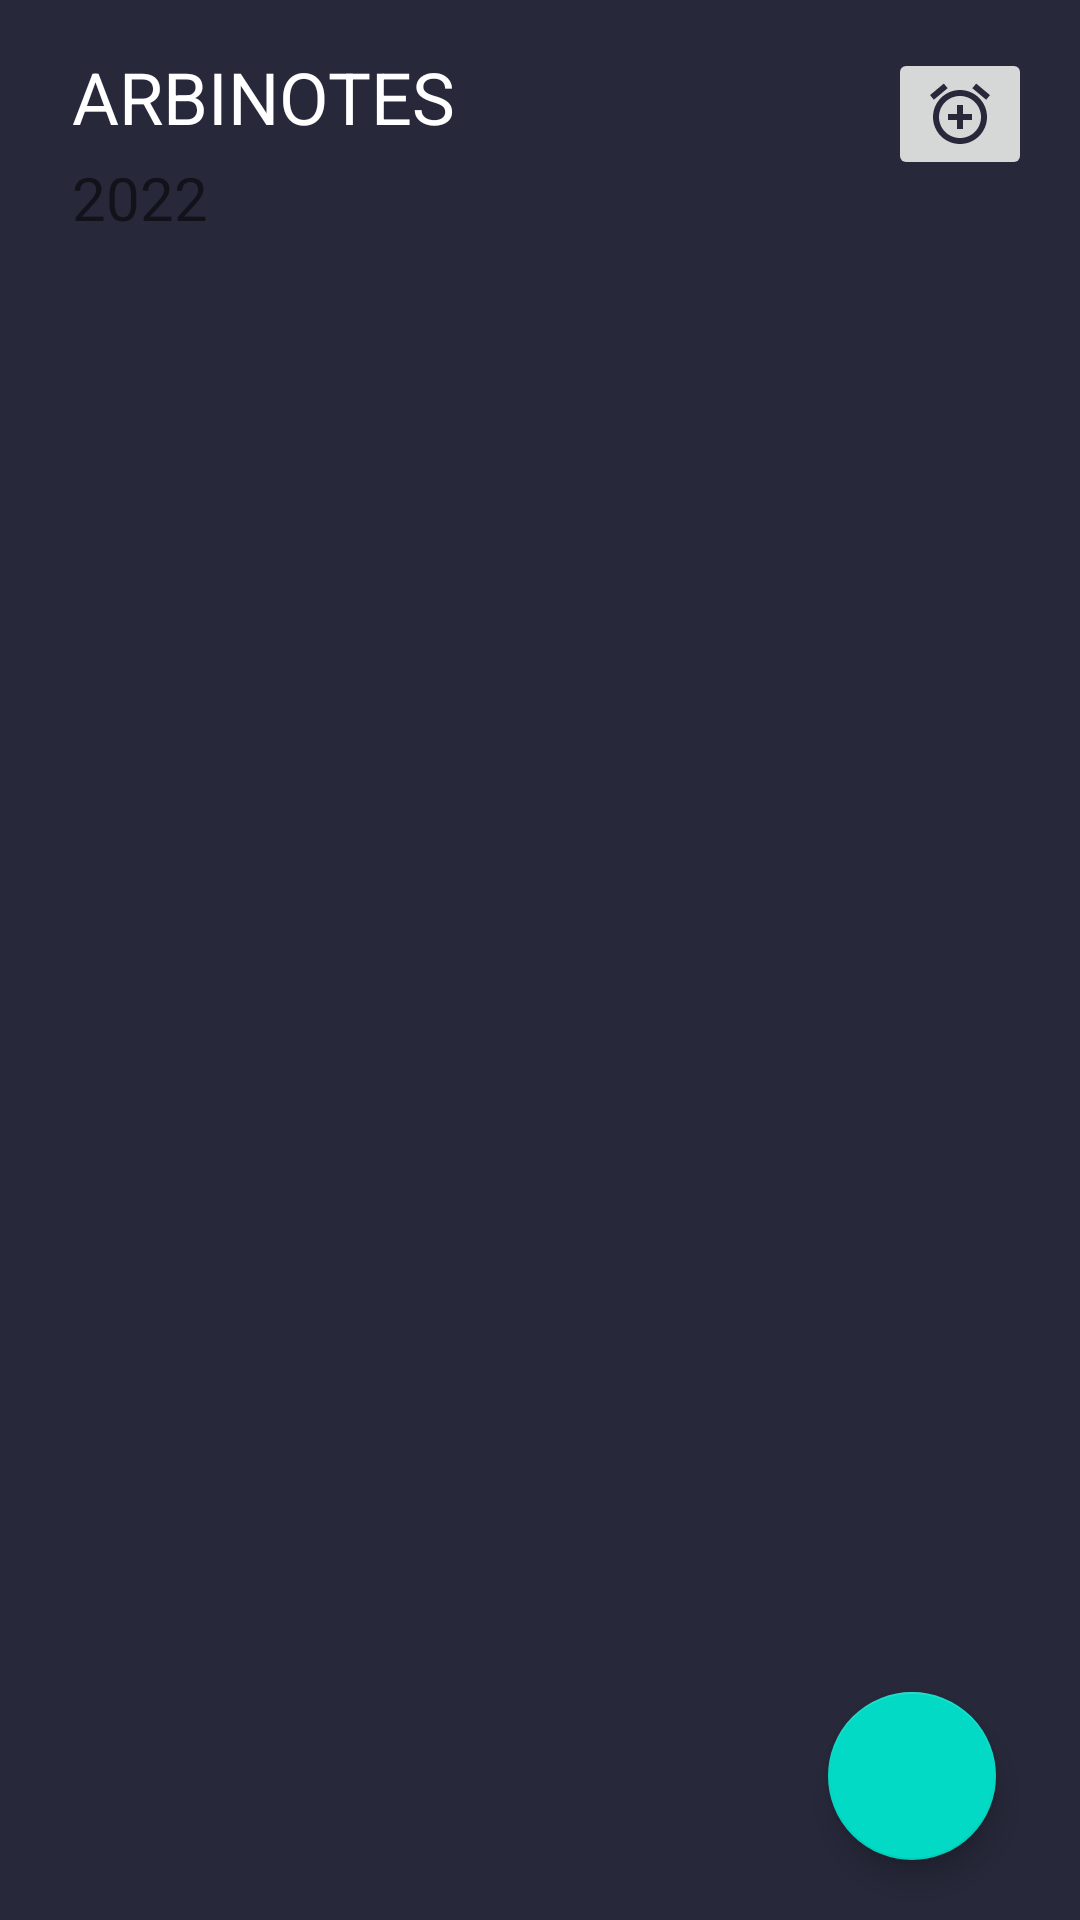

Named icons in this screenshot (1080x1920) and their bounding boxes, BBox(x1, y1, x2, y2):
alarm add: BBox(900, 66, 1020, 162)
